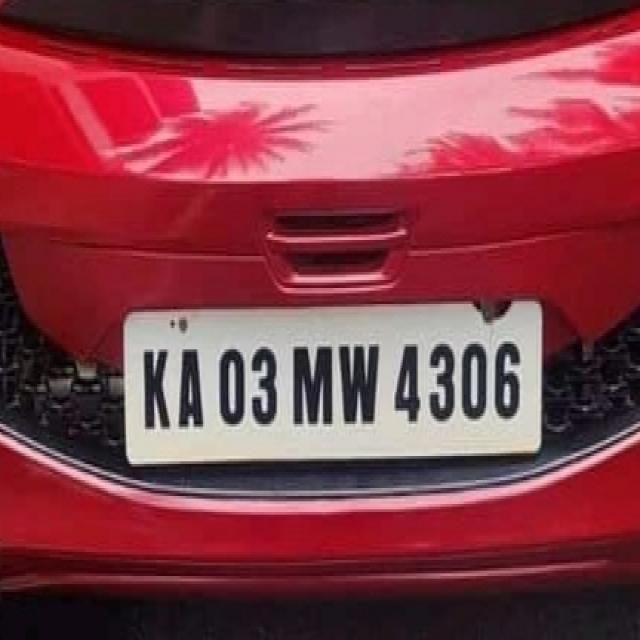0: (460, 333, 493, 431), (218, 340, 248, 430)
3: (249, 334, 281, 439), (426, 334, 457, 427)
4: (392, 336, 424, 431)
6: (492, 332, 528, 424)
A: (176, 343, 207, 439)
K: (141, 343, 173, 436)
M: (288, 336, 337, 429)
W: (334, 336, 384, 432)
